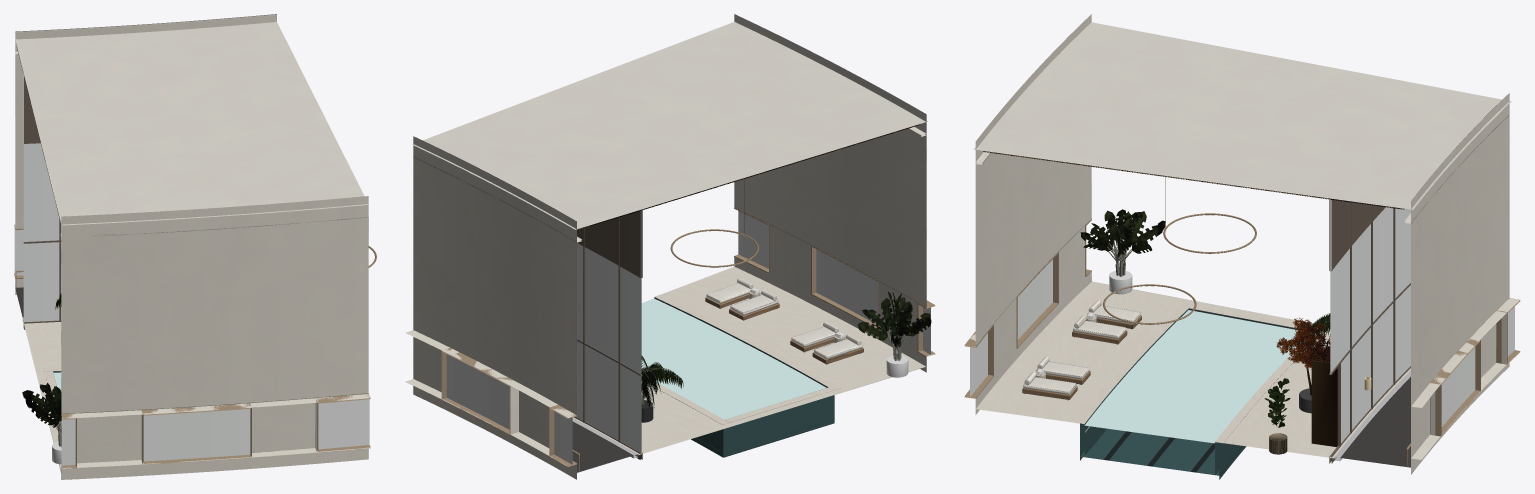
3 renders of one model, left to right at view 1: azimuth 30°, elevation 25°; view 2: azimuth 150°, elevation 25°; view 3: azimuth 270°, elevation 25°, orthographic. The views are drawn at different scales.
Visible parts, largest first — view 1: c1980, c1980 leaves; view 2: c1980, c1980 leaves; view 3: c1980, c1980 leaves.
Boxes of the visible parts, x1=… form: c1980: x1=14, y1=14, x2=376, y2=479; c1980 leaves: x1=16, y1=43, x2=61, y2=427; c1980: x1=406, y1=14, x2=935, y2=479; c1980 leaves: x1=582, y1=124, x2=931, y2=407; c1980: x1=964, y1=14, x2=1520, y2=479; c1980 leaves: x1=983, y1=151, x2=1403, y2=454.
Bounding box in the file's own units: 20.32 × 14.7 × 24.3.
14 materials, 2 textured.
